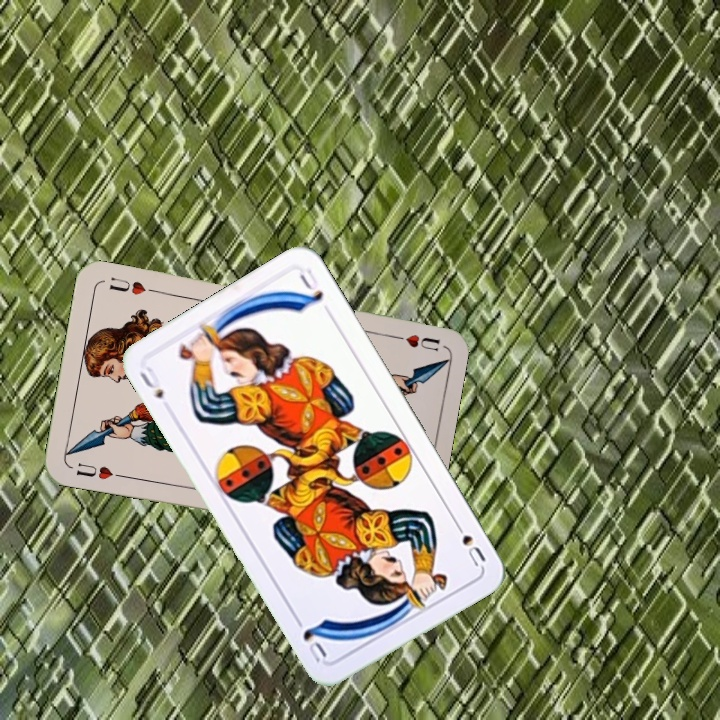HU: (385, 330, 442, 354), (72, 459, 126, 482)
SU: (449, 515, 489, 570), (135, 362, 167, 402)
